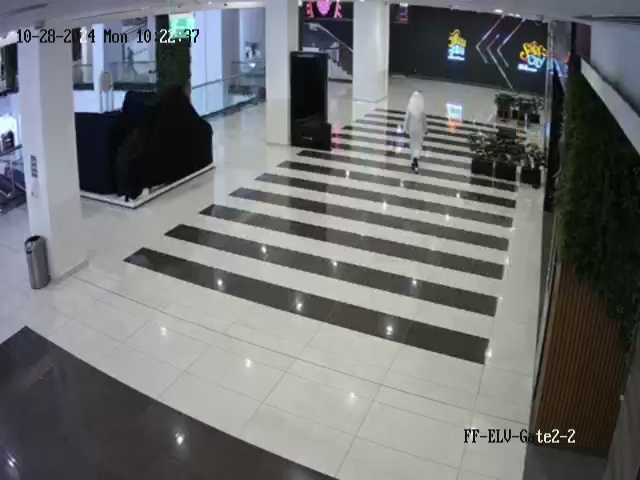male: (403, 90, 428, 173), (119, 43, 143, 86)
